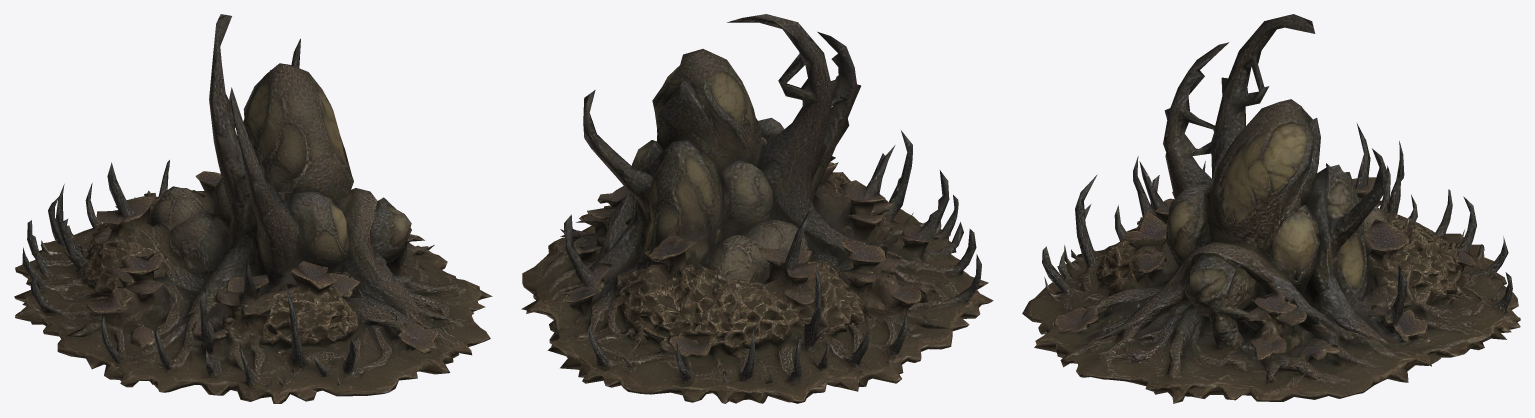
Rendered from corruption-growth.glb.
3 renders of one model, left to right at view 1: azimuth 30°, elevation 25°; view 2: azimuth 150°, elevation 25°; view 3: azimuth 270°, elevation 25°, orthographic. The views are drawn at different scales.
Parts seen in each view (by area): view 1: tripo_node_e27cfe35-25c1-47c8-9318-1ee3c26f22de; view 2: tripo_node_e27cfe35-25c1-47c8-9318-1ee3c26f22de; view 3: tripo_node_e27cfe35-25c1-47c8-9318-1ee3c26f22de.
Boxes of the visible parts, left/top/right/bottom form: tripo_node_e27cfe35-25c1-47c8-9318-1ee3c26f22de: left=14, top=14, right=492, bottom=403; tripo_node_e27cfe35-25c1-47c8-9318-1ee3c26f22de: left=521, top=14, right=993, bottom=403; tripo_node_e27cfe35-25c1-47c8-9318-1ee3c26f22de: left=1022, top=14, right=1520, bottom=403.
Size of the model in its own units: 0.8939 by 0.6296 by 1.
1 material, 1 textured.
